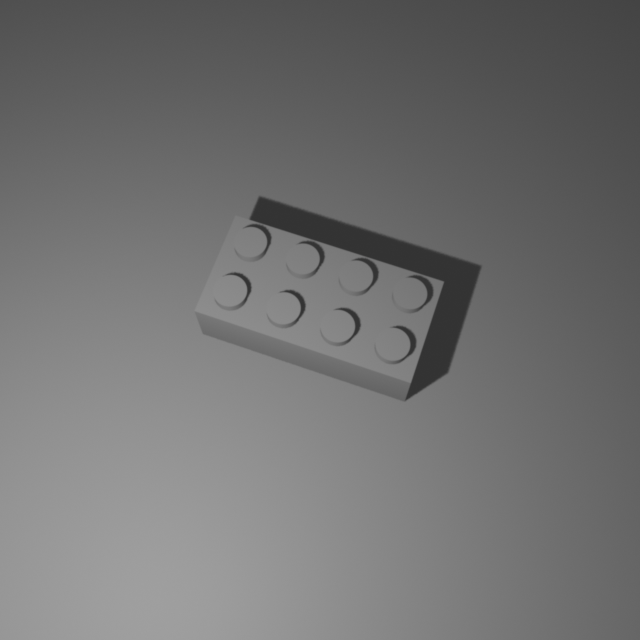lego_2x4: (193, 210, 446, 402)
